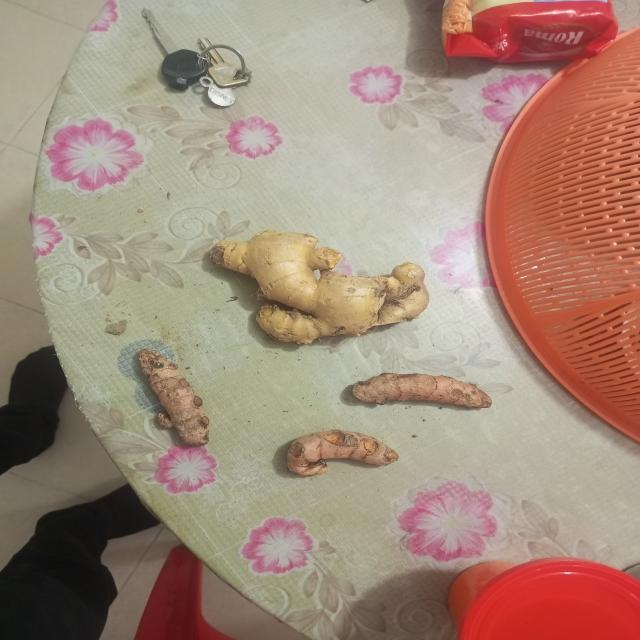ginger: (222, 232, 425, 336), (138, 350, 212, 447), (358, 371, 491, 412), (287, 427, 395, 473)
